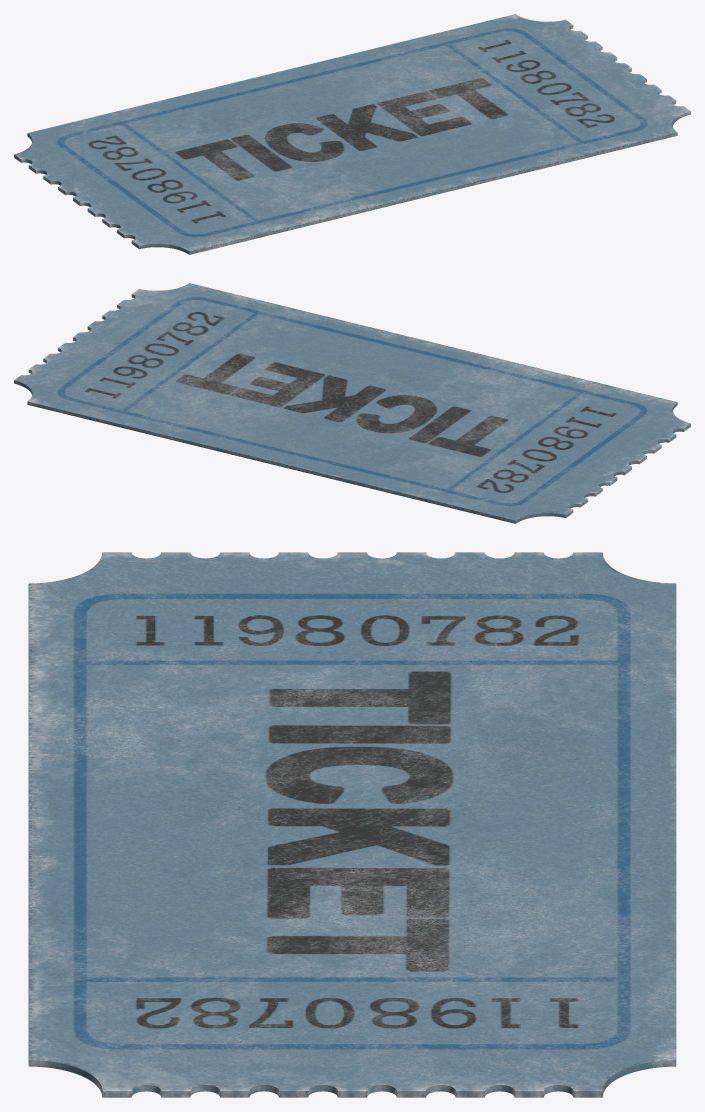
File: ticket.glb
The picture shows the model from 3 angles, top to bottom: view 1: azimuth 30°, elevation 25°; view 2: azimuth 150°, elevation 25°; view 3: azimuth 270°, elevation 25°; orthographic projection. The views are drawn at different scales.
Parts seen in each view (by area): view 1: ticket_admission_base_realistic_lod0; view 2: ticket_admission_base_realistic_lod0; view 3: ticket_admission_base_realistic_lod0.
Boxes of the visible parts, x1,y1,x2,y2 form: ticket_admission_base_realistic_lod0: (14, 14, 690, 254); ticket_admission_base_realistic_lod0: (14, 283, 690, 523); ticket_admission_base_realistic_lod0: (28, 552, 676, 1097).
Size of the model in its own units: 0.5 by 0.003 by 0.254.
1 material, 1 textured.
